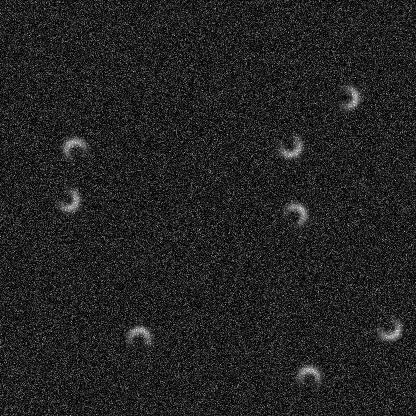Janus: (373, 312, 403, 342), (274, 130, 304, 160), (51, 184, 81, 214), (123, 324, 153, 354), (60, 135, 90, 165), (293, 363, 323, 393), (279, 200, 309, 230), (331, 82, 361, 112)
